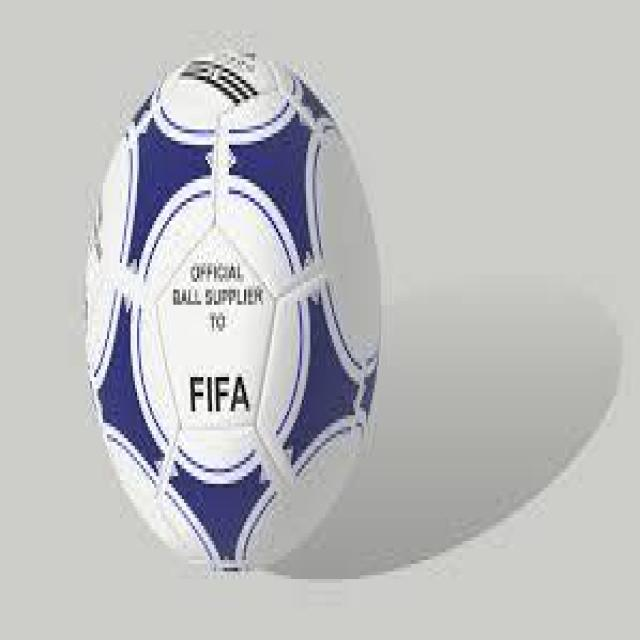Soccer Ball: (83, 50, 379, 579)
